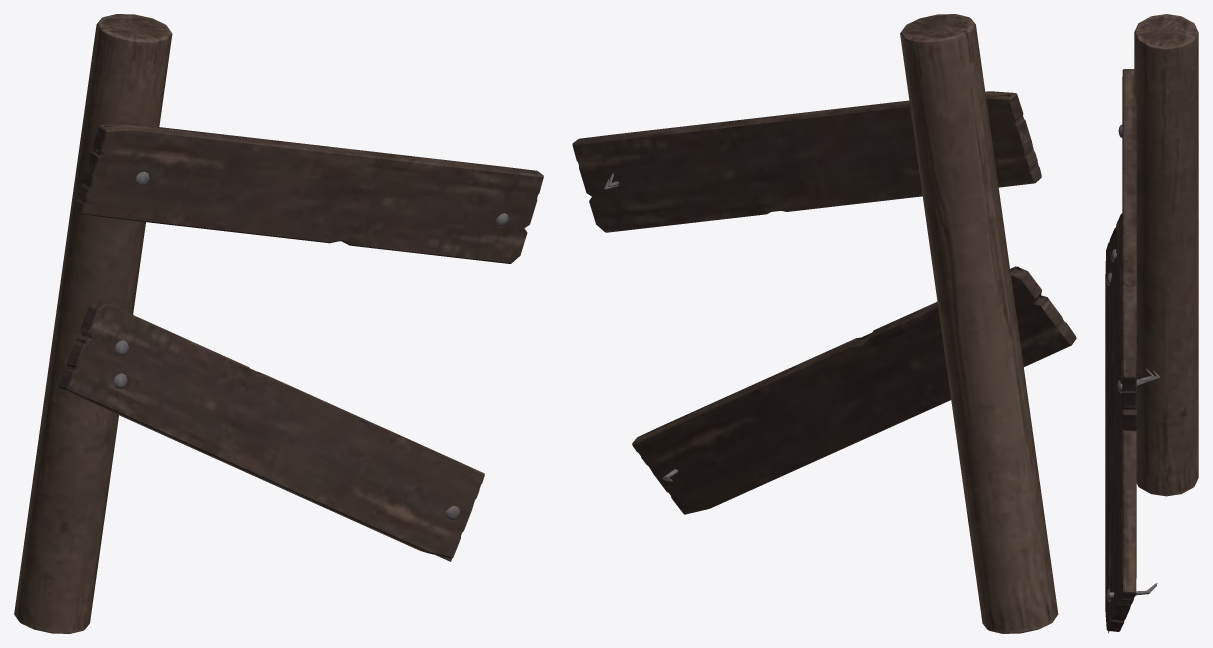
Rendered from Fence06.glb.
The picture shows the model from 3 angles, left to right: view 1: azimuth 30°, elevation 25°; view 2: azimuth 150°, elevation 25°; view 3: azimuth 270°, elevation 25°; orthographic projection. The views are drawn at different scales.
Visible parts, largest first — view 1: FenceF; view 2: FenceF; view 3: FenceF.
Boxes of the visible parts, x1=… form: FenceF: x1=14, y1=14, x2=543, y2=633; FenceF: x1=572, y1=14, x2=1076, y2=633; FenceF: x1=1105, y1=14, x2=1198, y2=633.
Bounding box in the file's own units: 1.07 × 1.2 × 0.2059.
Materials: 2 (2 with a texture image).
